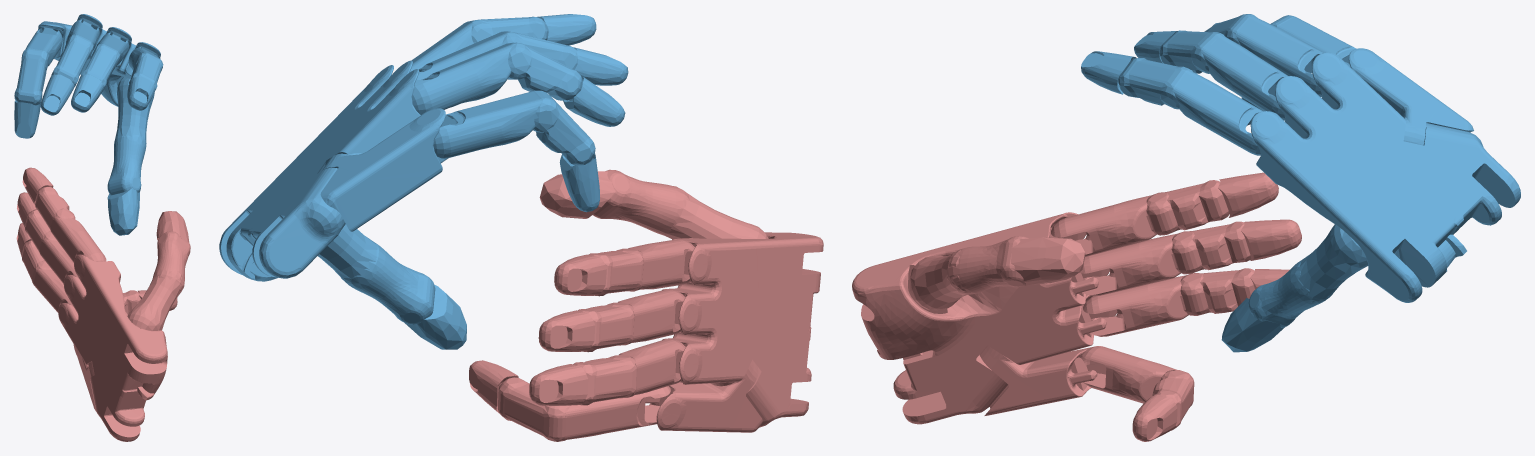
File: Piano_pc.glb
3 renders of one model, left to right at view 1: azimuth 30°, elevation 25°; view 2: azimuth 150°, elevation 25°; view 3: azimuth 270°, elevation 25°, orthographic. The views are drawn at different scales.
Parts seen in each view (by area): view 1: geom_2, geom_1; view 2: geom_2, geom_1; view 3: geom_2, geom_1.
Boxes of the visible parts, bbox=[...] form: geom_2: bbox=[16, 167, 190, 441]; geom_1: bbox=[14, 14, 163, 235]; geom_2: bbox=[469, 169, 823, 441]; geom_1: bbox=[219, 14, 628, 349]; geom_2: bbox=[852, 172, 1301, 441]; geom_1: bbox=[1081, 14, 1520, 352].
Size of the model in its own units: 0.1651 by 0.2302 by 0.3113.
